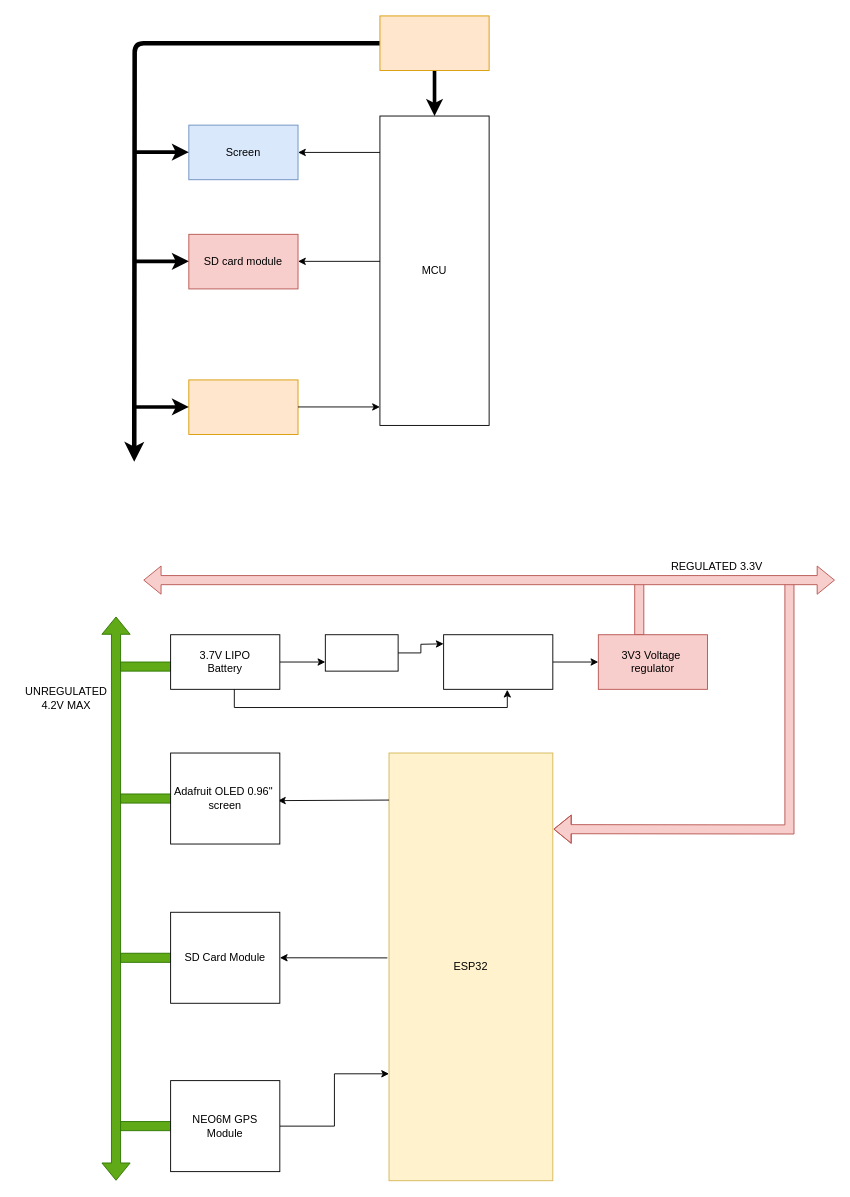
This 850x1197 diagram has some shape labels left out. Each missing label, with the centre of its shape:
GPS module: the point at 243,407
ON/OFF Switch: the point at 361,652
Power: the point at 434,43
TP4056 Charging Module: the point at 498,661
